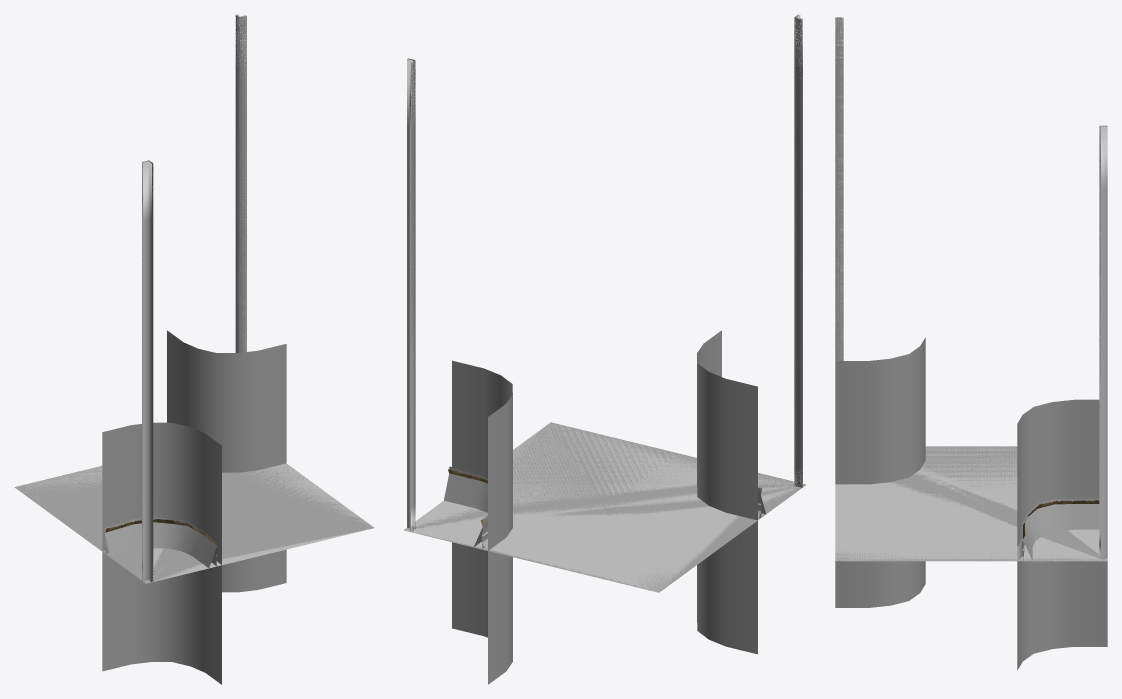
Rendered from roomcornerC1.fbx.
3 views of the same model, side by side, from view 1: azimuth 30°, elevation 25°; view 2: azimuth 150°, elevation 25°; view 3: azimuth 270°, elevation 25° (orthographic). The views are drawn at different scales.
Visible parts, largest first — view 1: col_w, col_o, mdl_LOD0, mdl2_LOD0; view 2: mdl_LOD0, col_w, col_o, mdl2_LOD0; view 3: col_w, mdl_LOD0, col_o, mdl2_LOD0.
Boxes of the visible parts, box(x1,y1,x2,y2) form: col_w: box(102, 330, 286, 684); col_o: box(14, 15, 373, 583); mdl_LOD0: box(15, 75, 372, 583); mdl2_LOD0: box(105, 14, 246, 544); mdl_LOD0: box(404, 85, 805, 592); col_w: box(452, 330, 757, 684); col_o: box(403, 14, 805, 592); mdl2_LOD0: box(407, 14, 802, 525); col_w: box(835, 337, 1107, 670); mdl_LOD0: box(835, 84, 1107, 561); col_o: box(835, 17, 1107, 561); mdl2_LOD0: box(835, 17, 1107, 538).
Size of what is drawn, in the model's own units: 1600 by 3600 by 1600.
